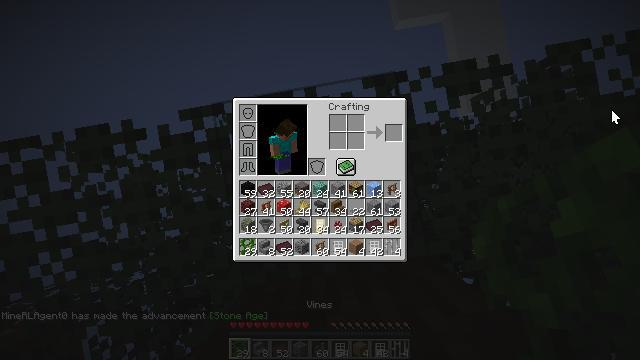cursor: (611, 109, 621, 125)
